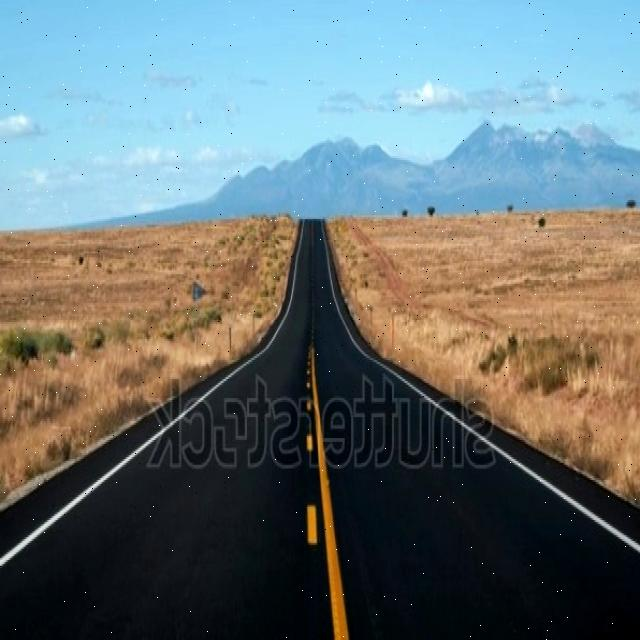lane: (0, 429, 165, 567), (498, 449, 640, 552), (311, 343, 349, 638), (308, 505, 318, 545)
road: (1, 219, 640, 636)
